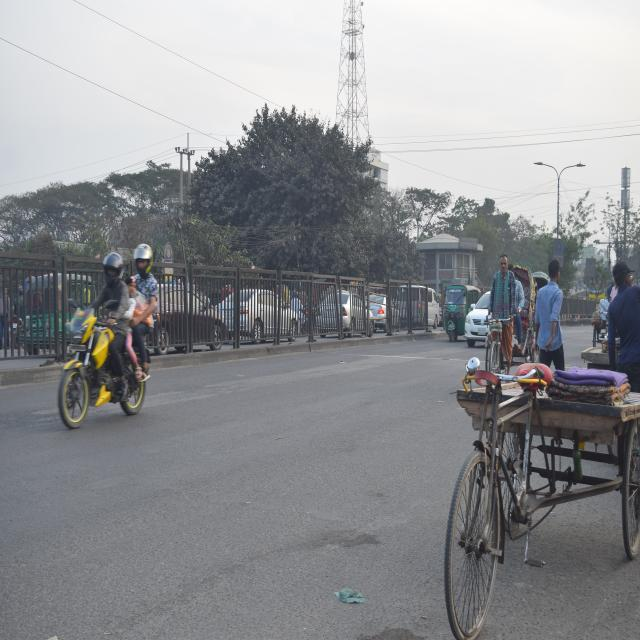car: (461, 286, 496, 350)
motorbike: (52, 281, 165, 451)
